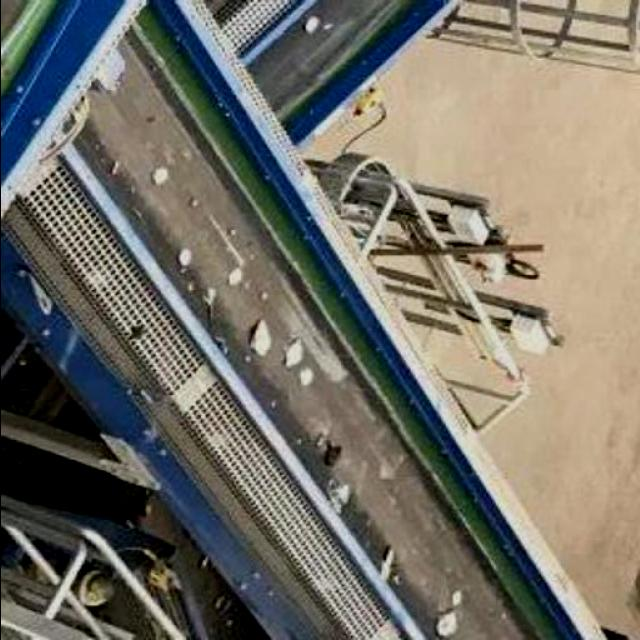conveyor: (56, 5, 561, 640)
